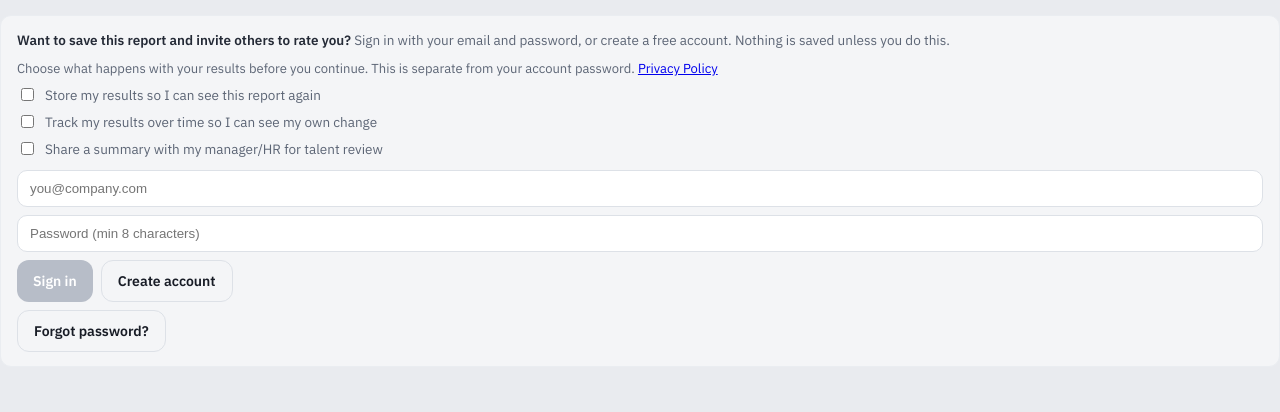
Scenario: AuthPanel › shows an error when the reset request fails
In the field with placeholder "you@company.com": [640, 188] box [17, 170, 1263, 207], type "a@b.com"
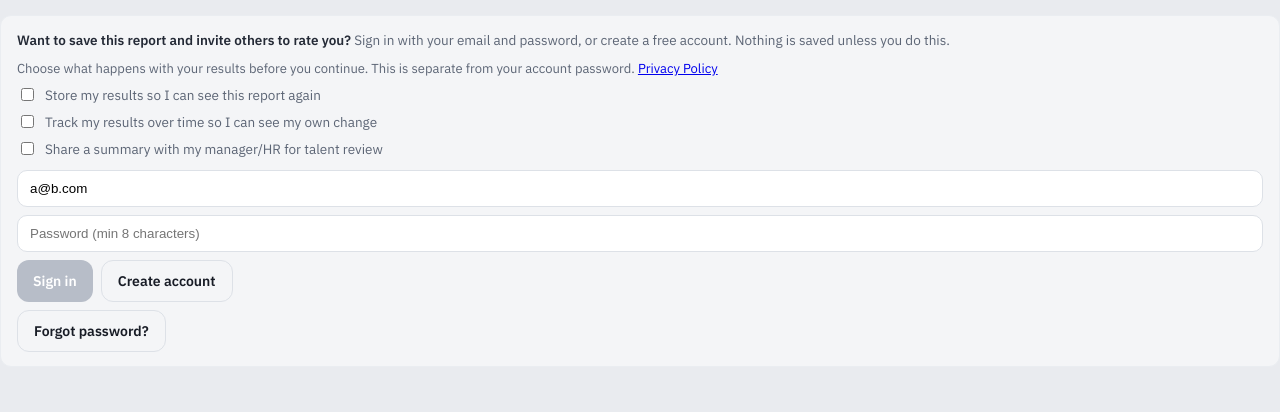
Click the button "Forgot password?": [91, 331] box [17, 310, 166, 352]
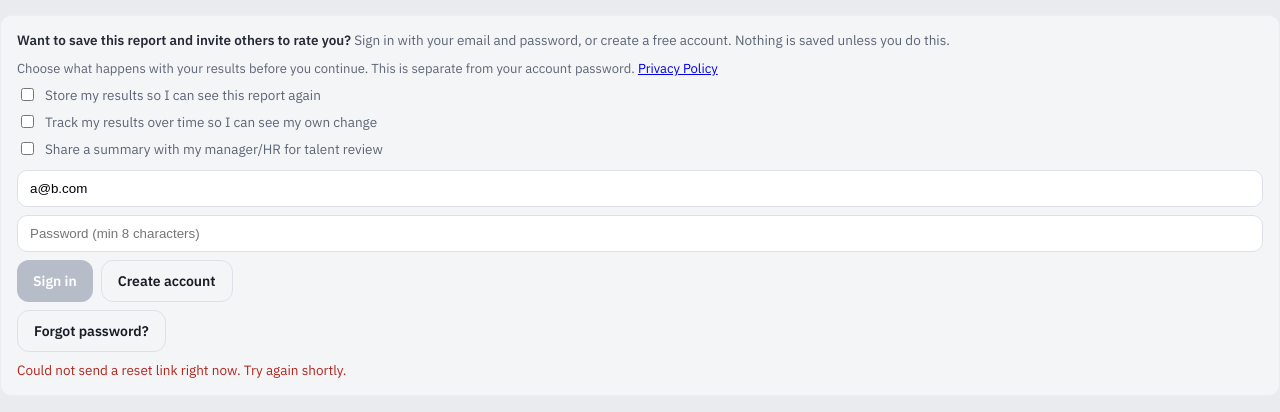
Expected: the text "Could not send a reset link" is shown, [17, 361, 346, 379]
